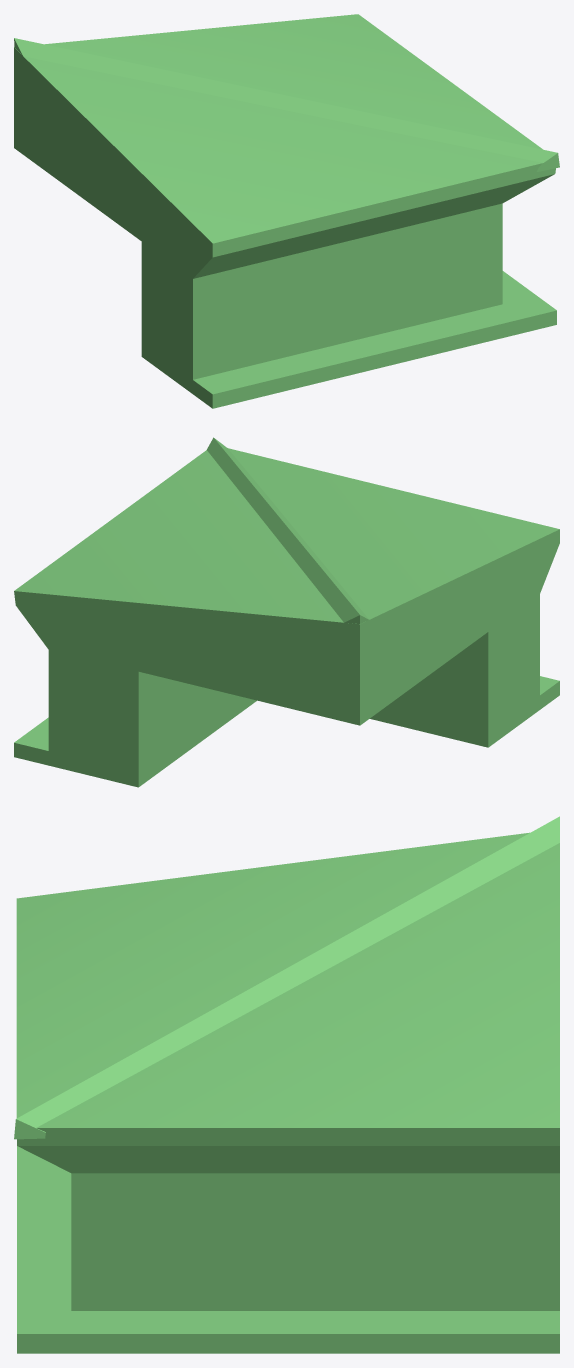
Rendered from Bld3_Top_Cor.fbx.
3 renders of one model, top to bottom at view 1: azimuth 30°, elevation 25°; view 2: azimuth 150°, elevation 25°; view 3: azimuth 270°, elevation 25°, orthographic. The views are drawn at different scales.
Parts seen in each view (by area): view 1: Bld3_Top_Cor; view 2: Bld3_Top_Cor; view 3: Bld3_Top_Cor.
Part boxes in pixels (<box>): Bld3_Top_Cor: <box>14,14,559,408</box>; Bld3_Top_Cor: <box>14,437,559,787</box>; Bld3_Top_Cor: <box>14,816,559,1353</box>.
Size of the model in its own units: 377 by 235 by 377.
